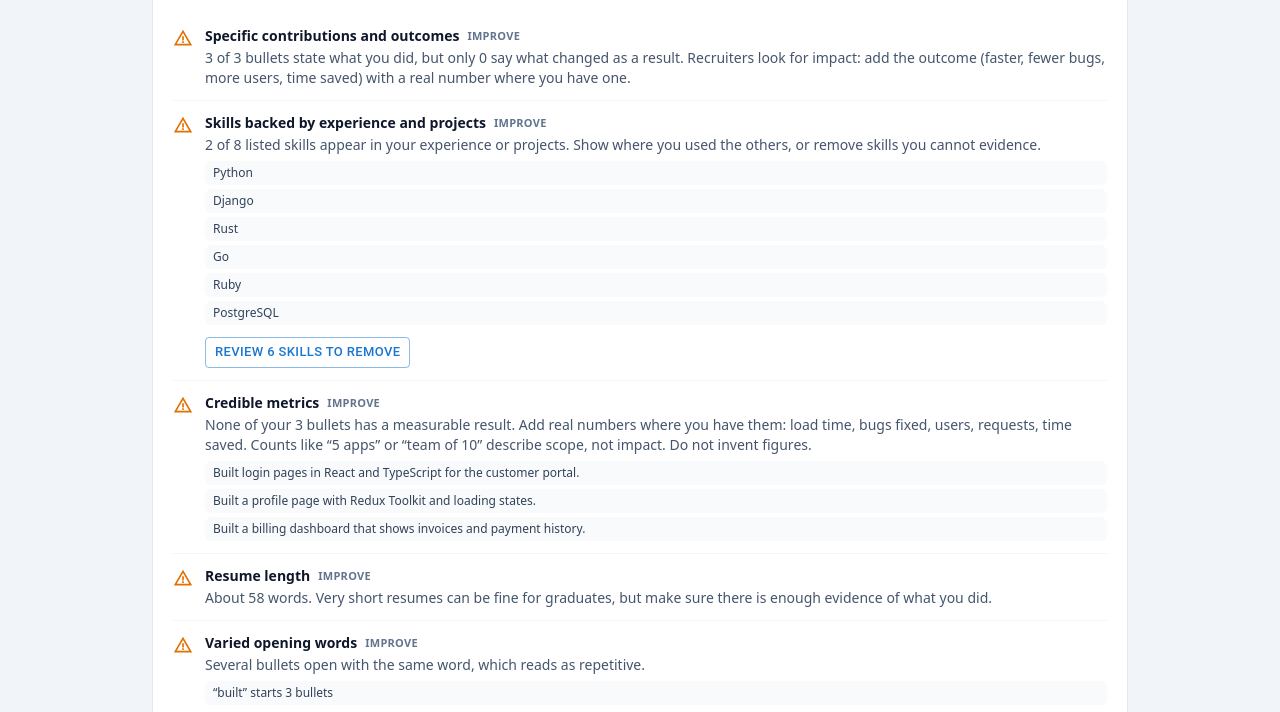
it: CV check one-click fixes › removes the skills you untick nothing for, and saves the resume
(page scrolled)
Click the button "Review 6 skills to remove" at {"x": 308, "y": 352}, box [205,337,410,368]
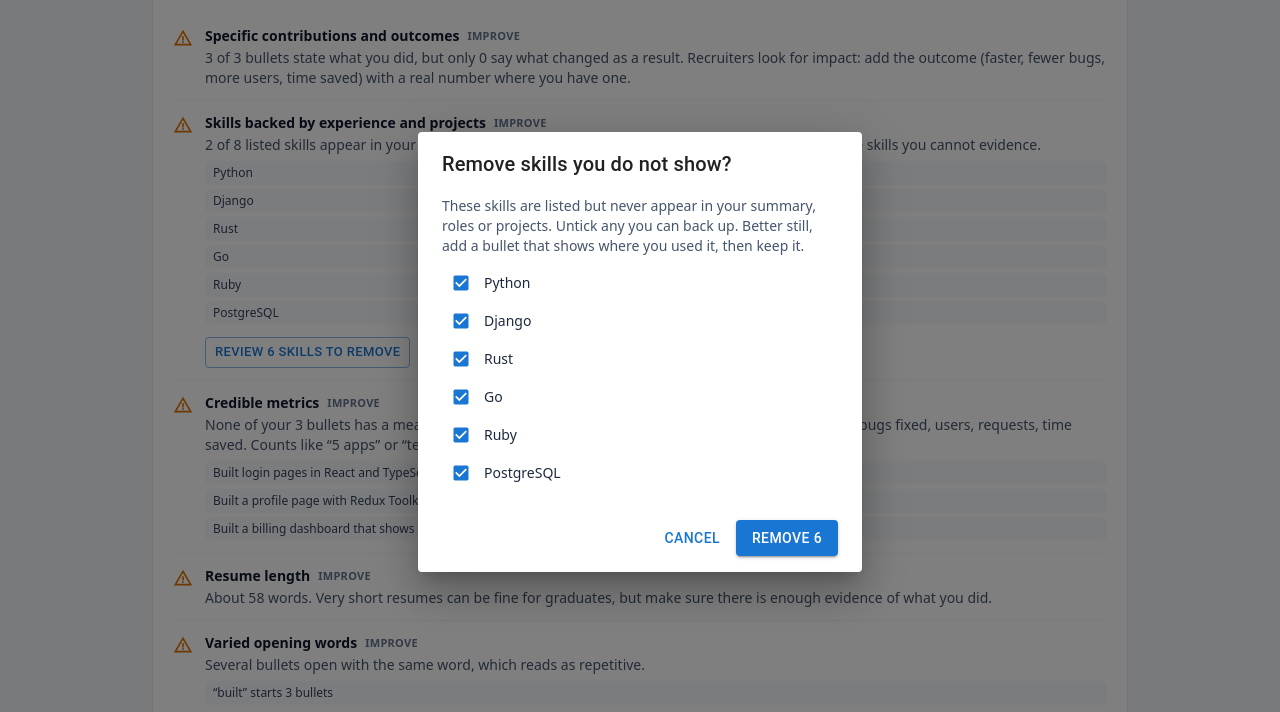
Click the button "Remove 6" at {"x": 787, "y": 538}, box [736,520,838,556]
(page scrolled)
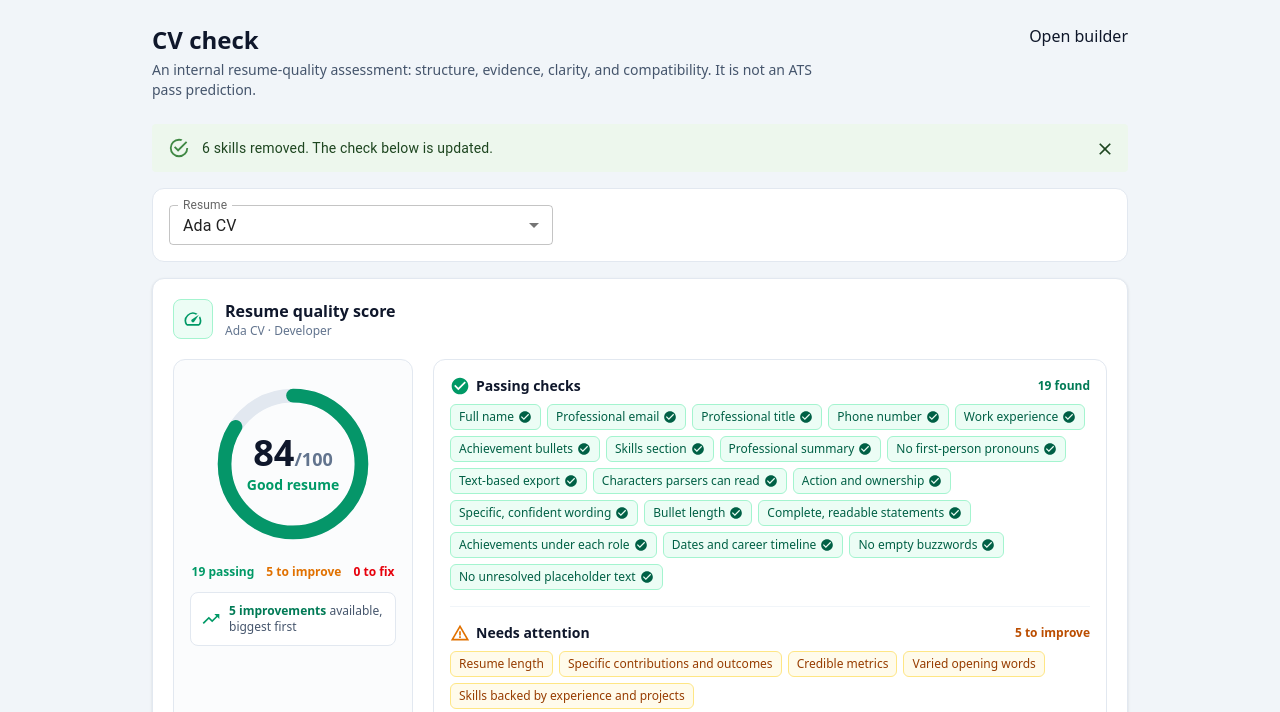
expect the text "6 skills removed. The check below is updated." is shown: met, box [202,140,493,156]
